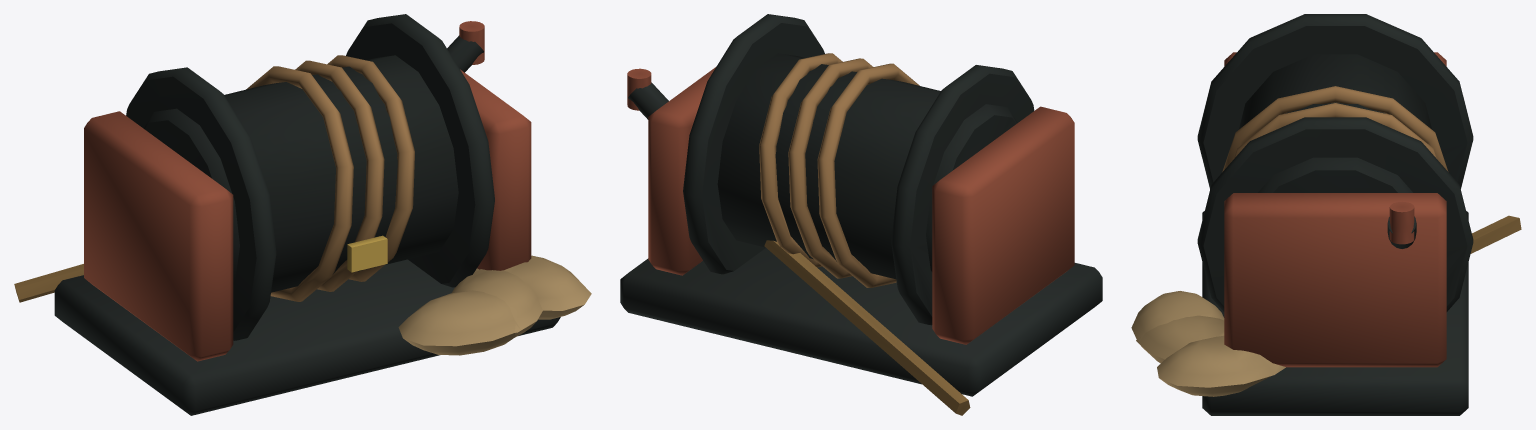
Rendered from winch_drum_b.glb.
The picture shows the model from 3 angles, left to right: view 1: azimuth 30°, elevation 25°; view 2: azimuth 150°, elevation 25°; view 3: azimuth 270°, elevation 25°; orthographic projection. The views are drawn at different scales.
Parts seen in each view (by area): view 1: Surface; view 2: Surface; view 3: Surface.
Boxes of the visible parts, <box> form: Surface: <box>14,14,591,415</box>; Surface: <box>620,14,1102,415</box>; Surface: <box>1131,14,1521,415</box>.
Bounding box in the file's own units: 2.07 × 1.3 × 1.76.
